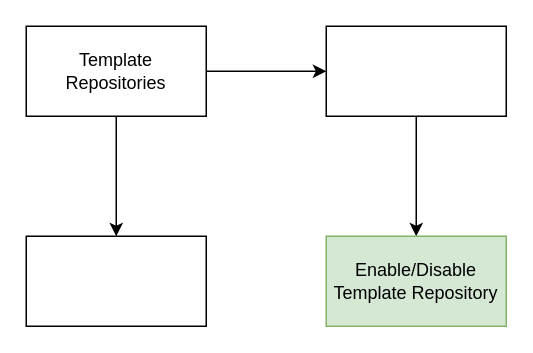
Some shapes in this 533 by 353 pixel diagram are drawn without their labels. The box of each missing label's shape, as (x1, y1, x2, y2) in pixels:
Allow creating different repository with existing tempate directory structure: (25, 235, 206, 326)
Settings->General: (325, 25, 506, 116)
